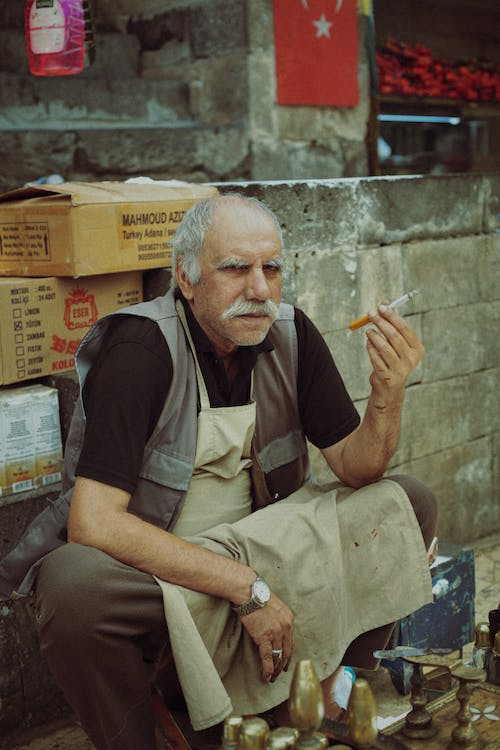cigarette: (346, 288, 420, 331)
